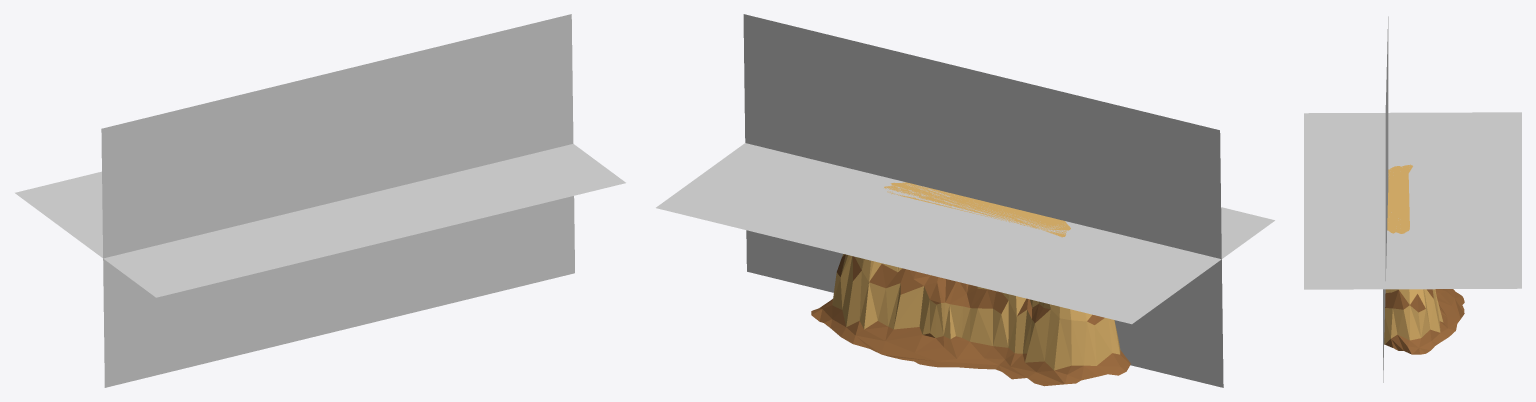
Rendered from MountingToplessCut.fbx.
3 views of the same model, side by side, from view 1: azimuth 30°, elevation 25°; view 2: azimuth 150°, elevation 25°; view 3: azimuth 270°, elevation 25° (orthographic). The views are drawn at different scales.
Visible parts, largest first — view 1: Plane.001, Plane; view 2: Plane.001, Plane, Mounting_3; view 3: Plane, Mounting_3, Plane.001.
Boxes of the visible parts, x1=… form: Plane.001: x1=101, y1=14, x2=574, y2=387; Plane: x1=15, y1=144, x2=625, y2=297; Plane.001: x1=743, y1=14, x2=1223, y2=387; Plane: x1=656, y1=143, x2=1274, y2=324; Mounting_3: x1=811, y1=182, x2=1130, y2=386; Plane: x1=1304, y1=112, x2=1521, y2=289; Mounting_3: x1=1384, y1=164, x2=1464, y2=354; Plane.001: x1=1383, y1=16, x2=1388, y2=382.
Bounding box in the file's own units: 3910 × 2052 × 2041.
